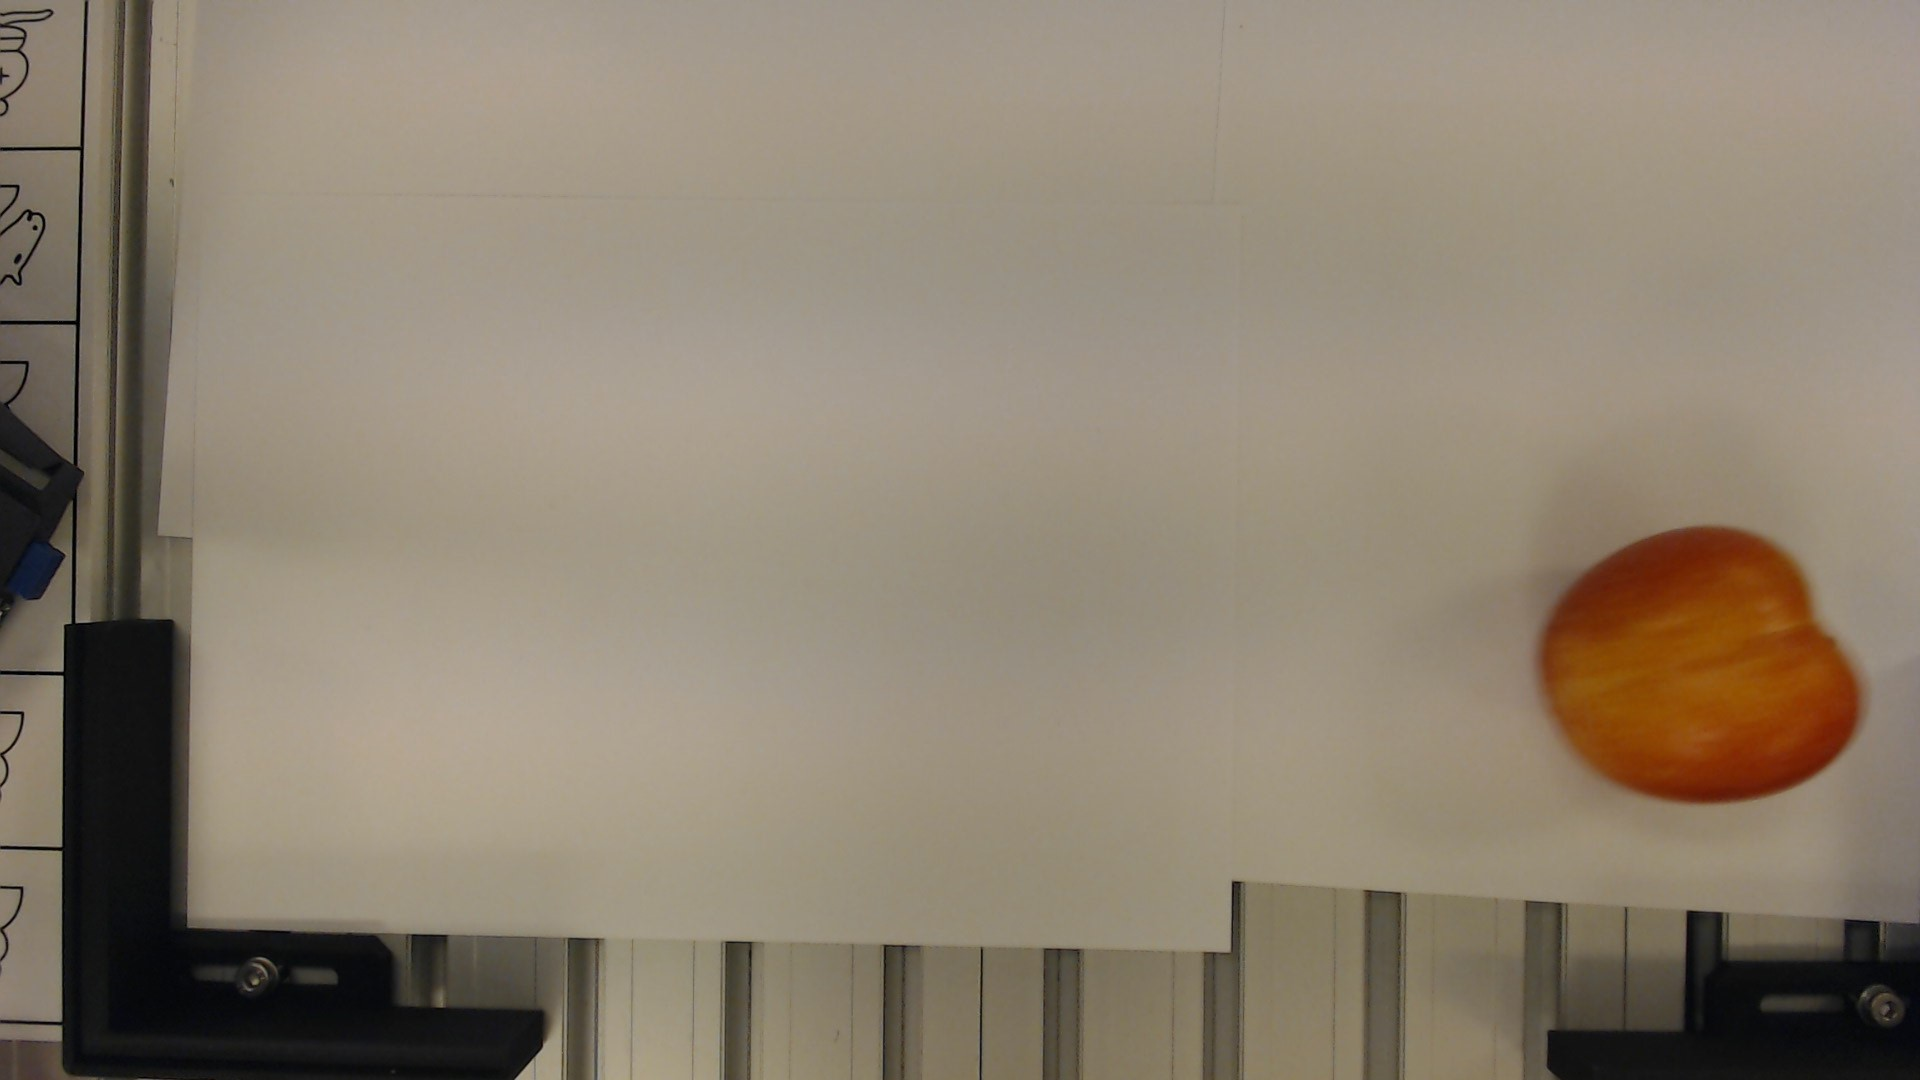Peach: (1539, 514, 1875, 811)
